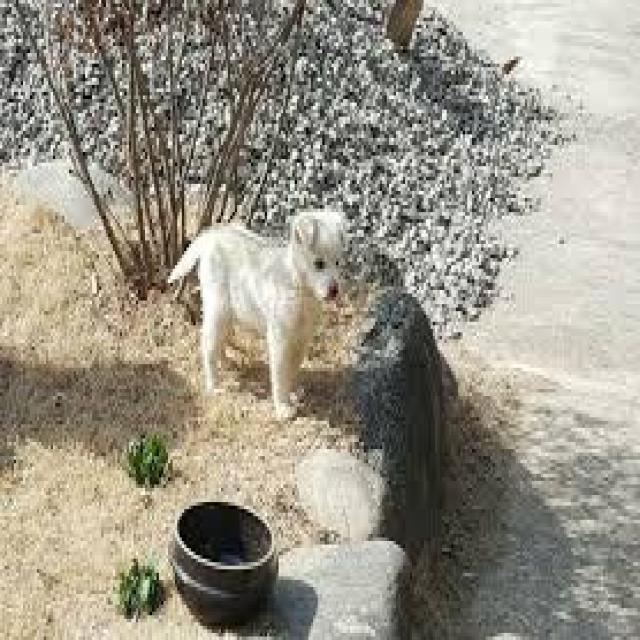dog: (170, 201, 357, 433)
